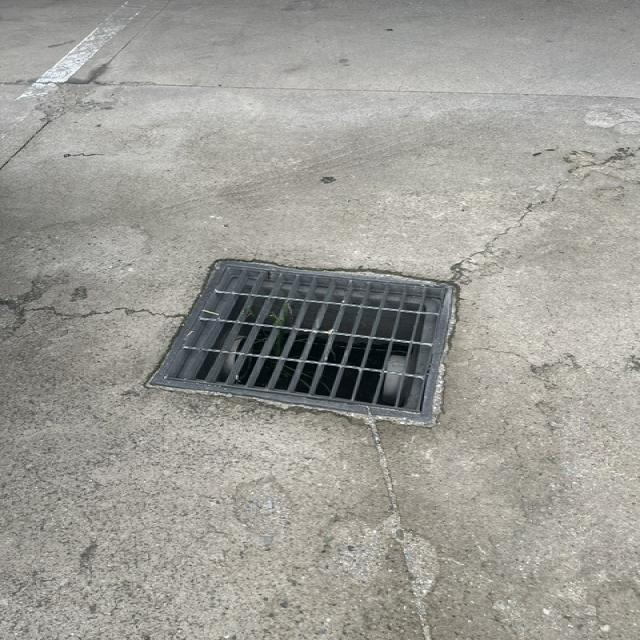drain_area: (164, 269, 445, 415)
drain_full: (165, 266, 448, 413)
